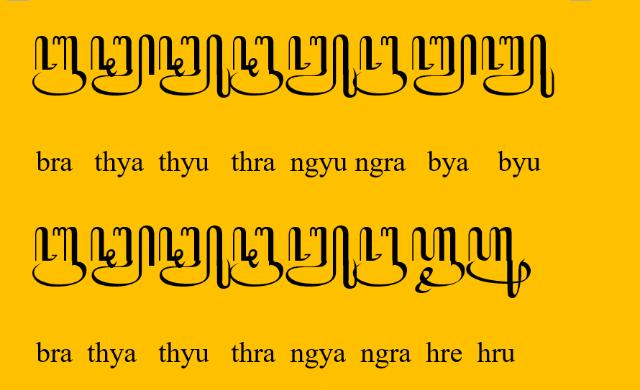br: (31, 34, 87, 98), (31, 224, 87, 288)
by: (410, 34, 478, 98)
byu: (480, 34, 556, 98)
hre: (412, 226, 466, 294)
hru: (466, 227, 532, 300)
ngra: (352, 35, 408, 97), (354, 226, 408, 288)
ngyu: (285, 33, 357, 99), (286, 225, 358, 290)
thr: (228, 225, 284, 287), (230, 34, 284, 96)
thy: (90, 33, 156, 97), (90, 226, 156, 288)
thyu: (158, 225, 232, 291), (158, 34, 232, 98)
